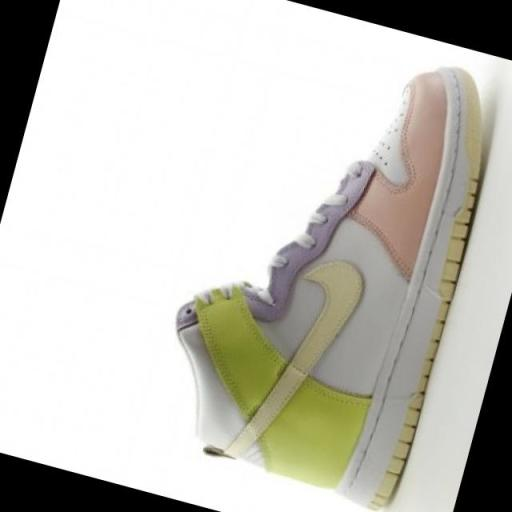Nike: (219, 239, 377, 481)
